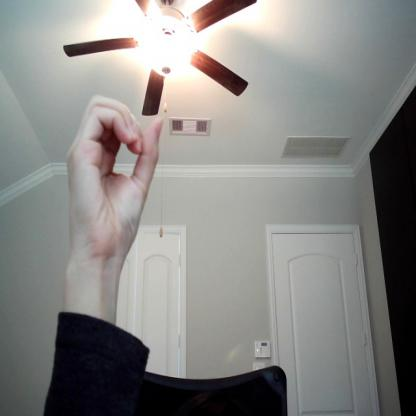zero: (65, 91, 162, 252)
